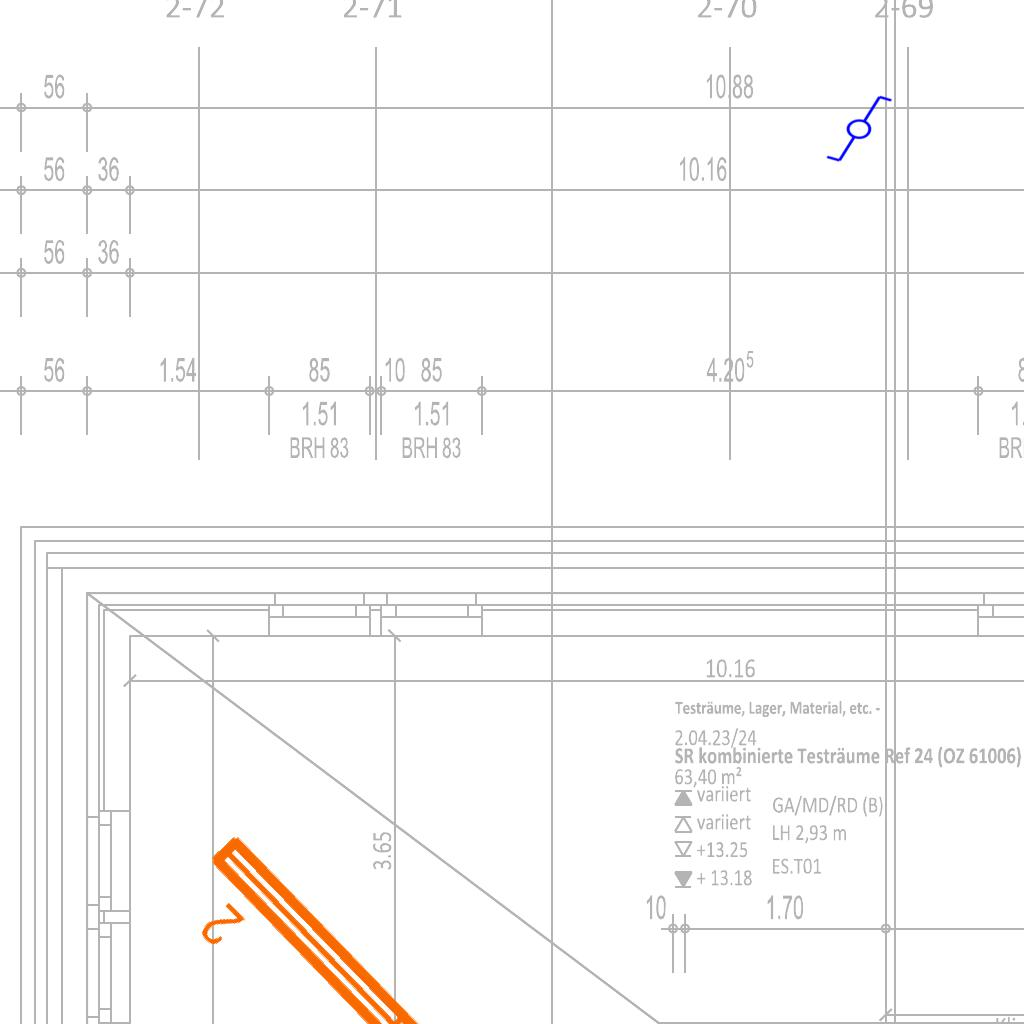Ambulanz_Pendelleuchte_LED: (157, 819, 777, 1024)
Wechselschalter: (816, 92, 894, 164)
